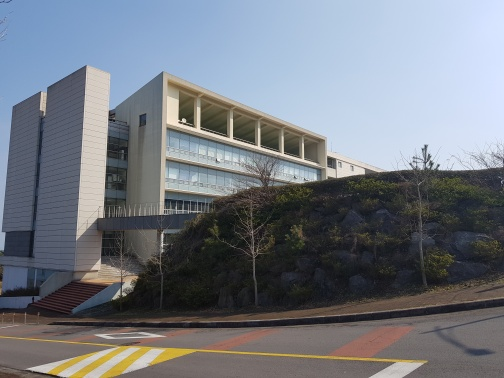Engineering College Building 4: (7, 75, 390, 308), (11, 92, 348, 188), (29, 87, 166, 276)
